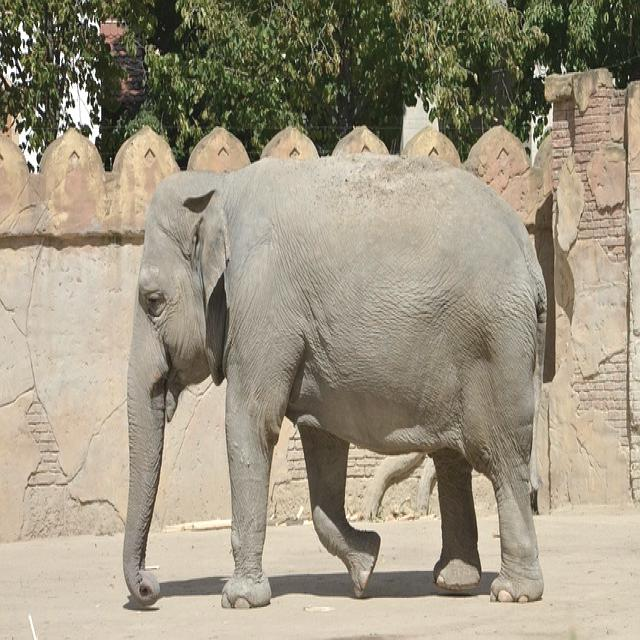FIL: (127, 151, 548, 612)
